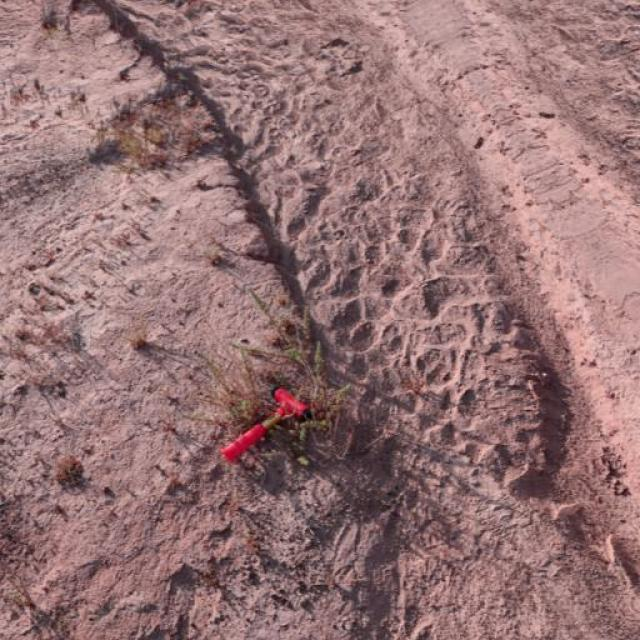mallet: (220, 385, 314, 463)
